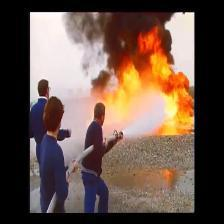fire: (100, 32, 193, 136)
